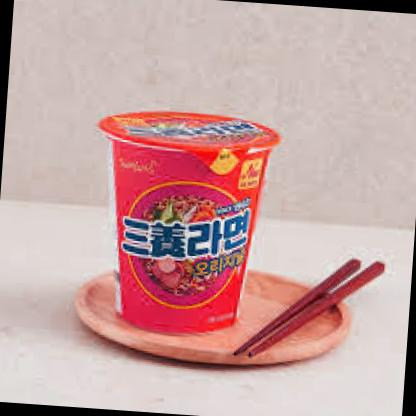Ramen: (80, 95, 280, 343)
